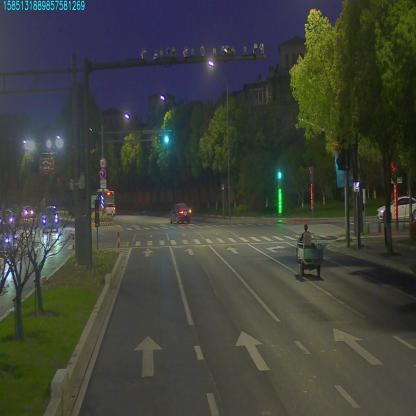traffic-light: (159, 134, 170, 142)
